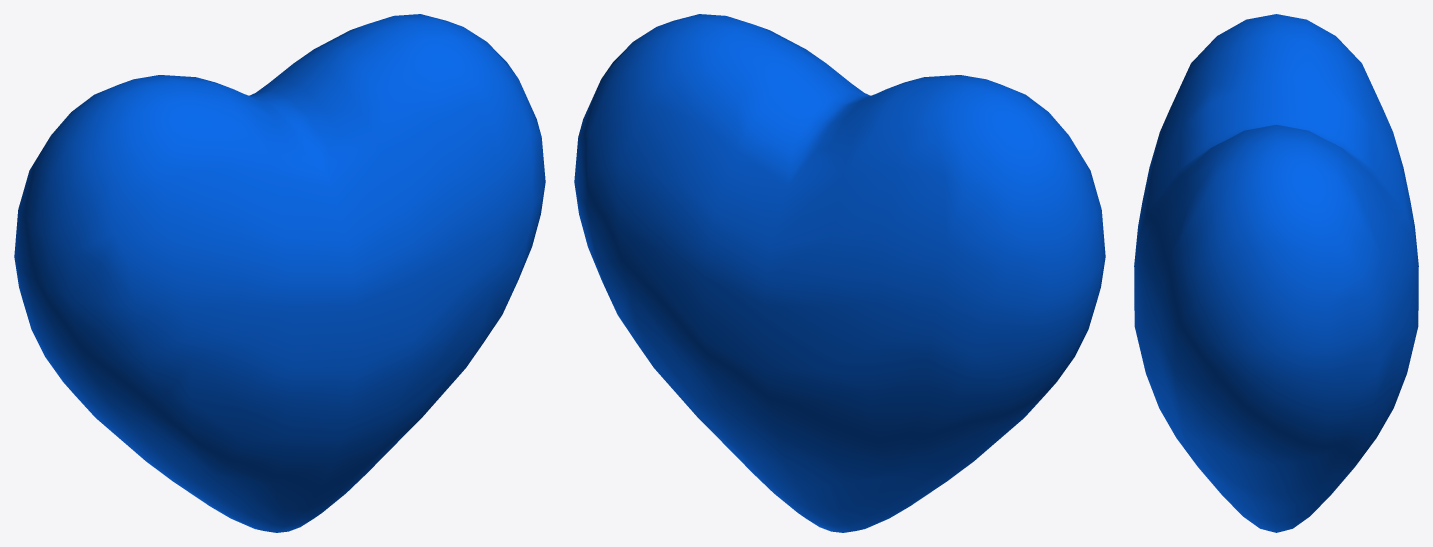
File: Heart_01.fbx
3 renders of one model, left to right at view 1: azimuth 30°, elevation 25°; view 2: azimuth 150°, elevation 25°; view 3: azimuth 270°, elevation 25°, orthographic. The views are drawn at different scales.
Visible parts, largest first — view 1: Heart_01; view 2: Heart_01; view 3: Heart_01.
Part boxes in pixels (x1,y1,x2,y2): Heart_01: (14,14,545,532); Heart_01: (574,14,1105,532); Heart_01: (1134,14,1418,532).
Bounding box in the file's own units: 67.43 × 61.29 × 35.42.
